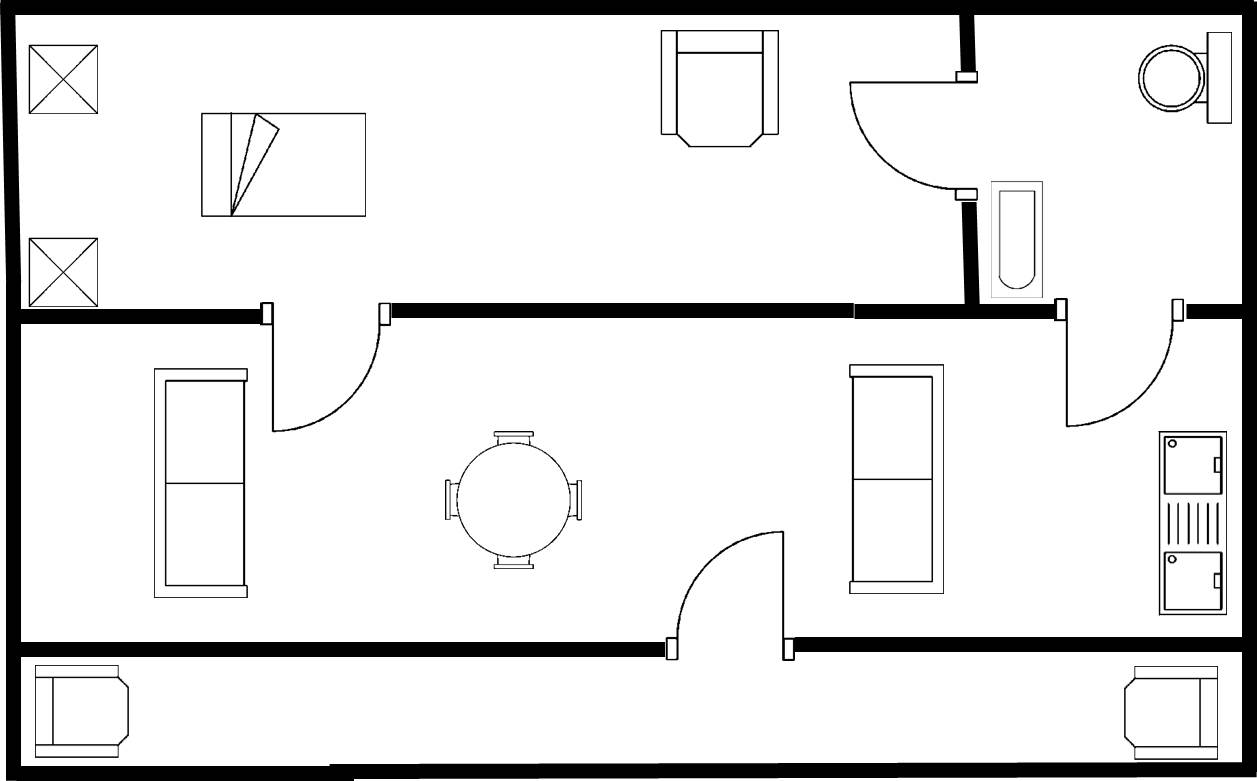armchair: (653, 23, 784, 152), (1119, 658, 1226, 763), (29, 659, 133, 765)
bed: (194, 103, 375, 225)
coffee_table: (23, 40, 103, 123), (24, 233, 104, 312)
large_sink: (1128, 25, 1237, 130)
large_sofa: (147, 358, 258, 607), (842, 358, 950, 602)
round_table: (440, 423, 589, 575)
tub: (984, 175, 1049, 301)
twin_sink: (1154, 425, 1233, 622)
